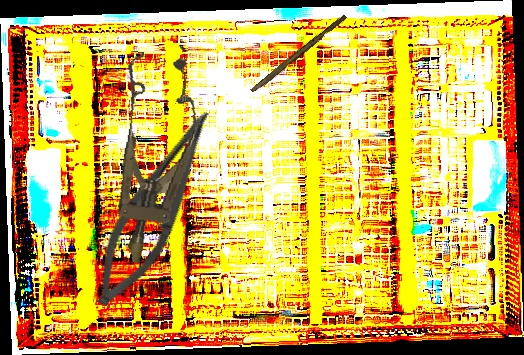Micro Scissor: (82, 97, 224, 318)
Scalpel Handle: (250, 12, 348, 96)
Speculum: (95, 49, 208, 270)
